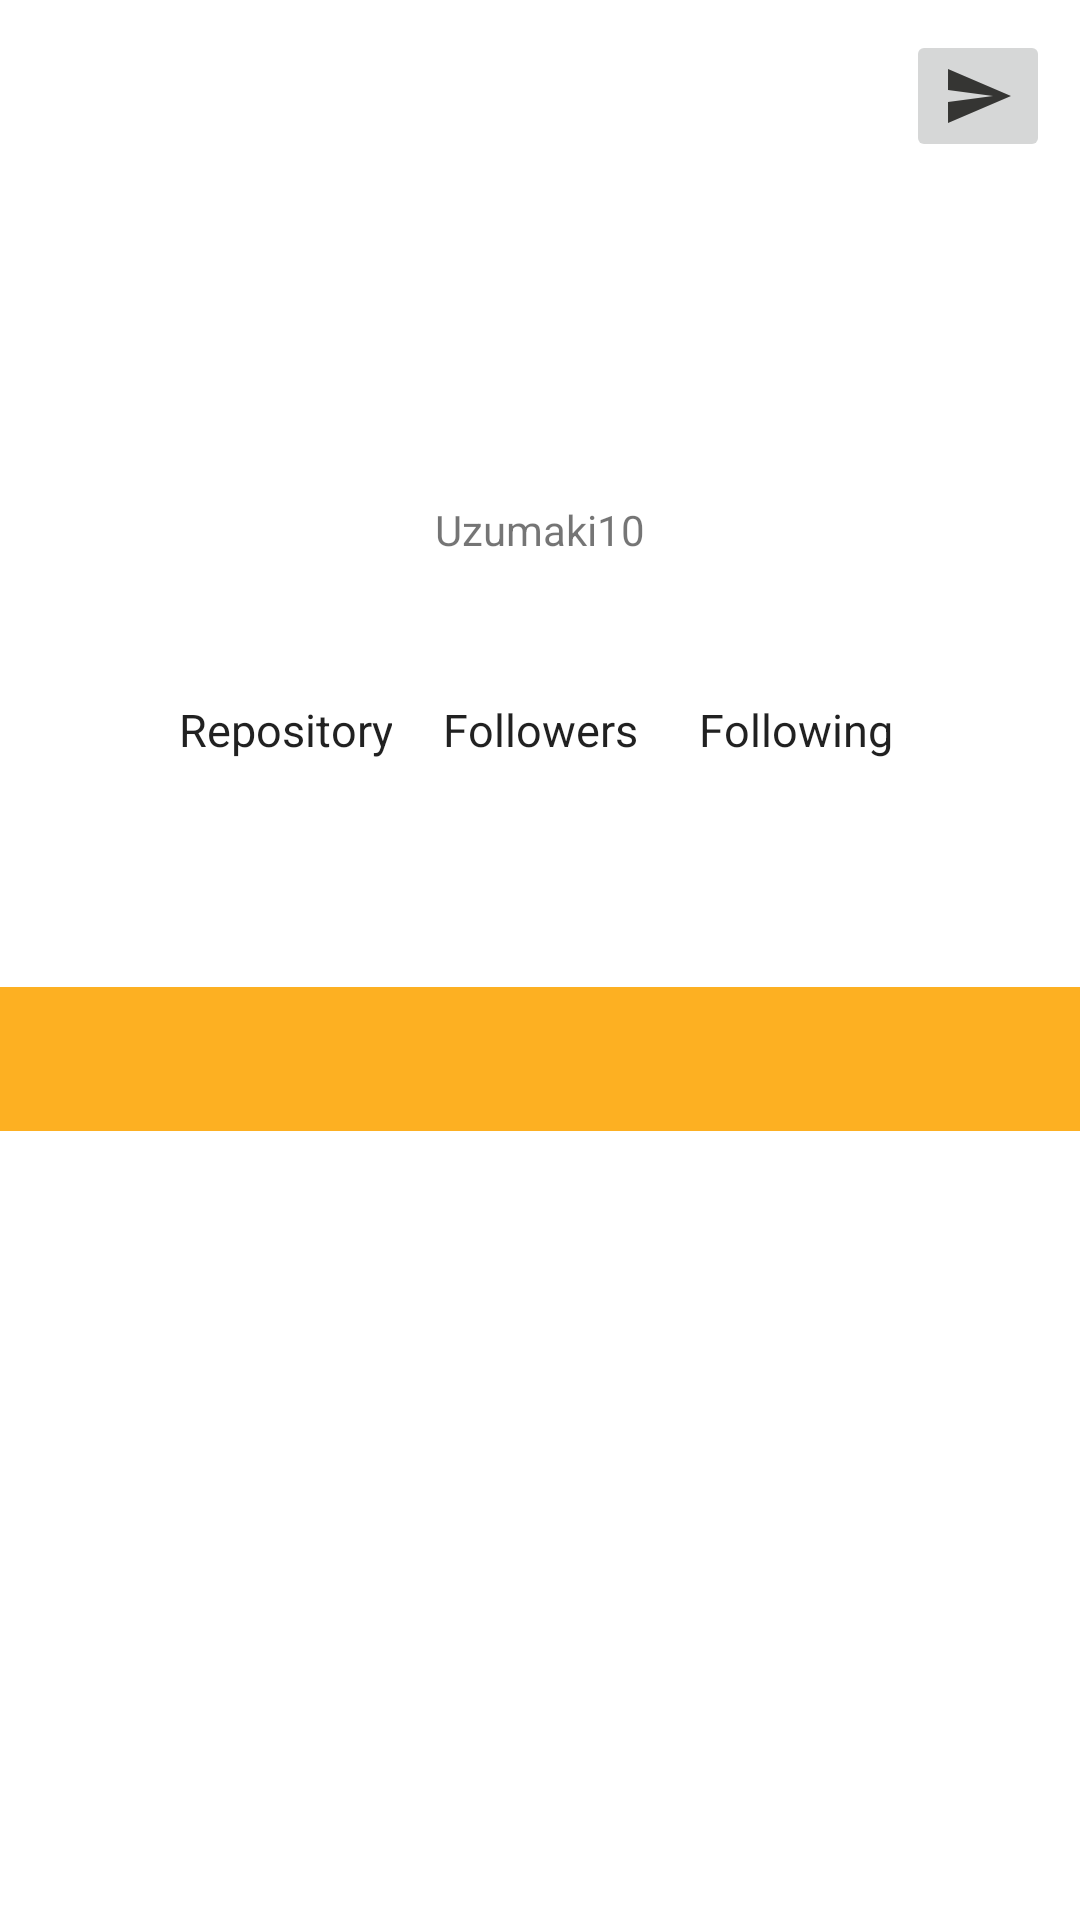

Locate icon controls on the screen. Image size 1080px×1920px, boxes as (x1, y1, x2, y2).
send: (918, 48, 1038, 144)
